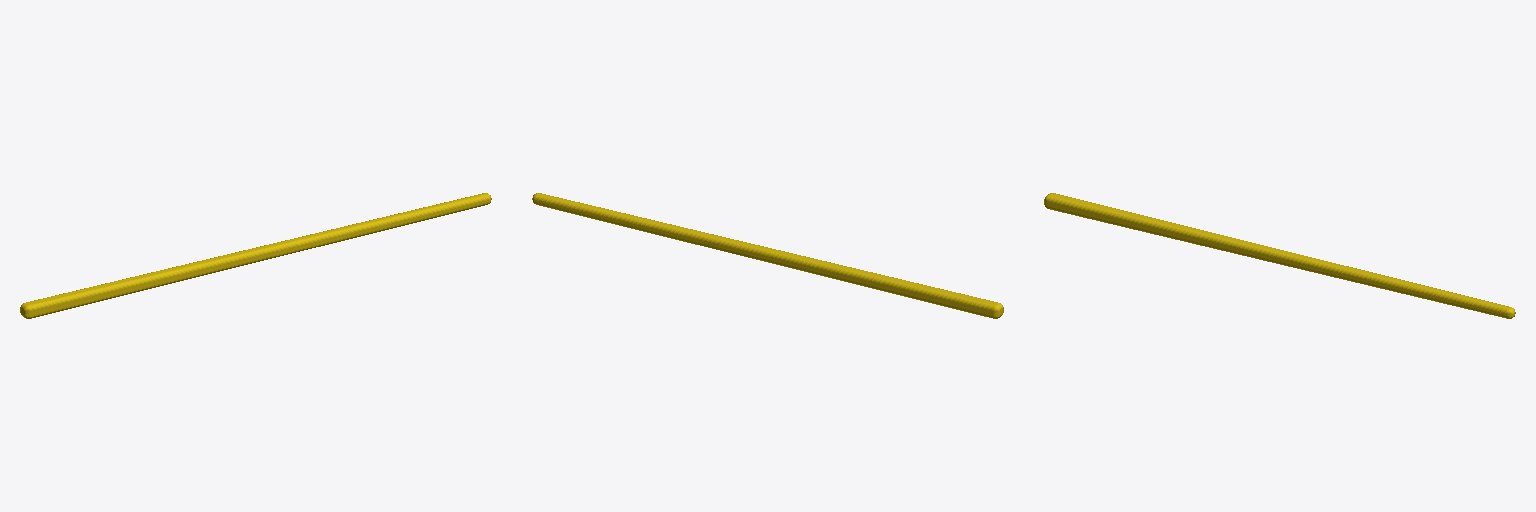
URDF robot description (cb_chopstick_d085):
<?xml version="1.0"?>
<!-- ContactBench chopstick. Generated by FoundationTouch tools/contactbench/make_contactbench_assets.py -->
<robot name="cb_chopstick_d085">
  <material name="c"><color rgba="0.85 0.75 0.10 1.0"/></material>
  <link name="object">
    <visual><origin xyz="0 0 0" rpy="0 0 0"/><geometry><mesh filename="chopstick.obj" scale="1 1 1"/></geometry><material name="c"/></visual>
    <collision><origin xyz="0 0 0" rpy="0 0 0"/><geometry><mesh filename="coll_00.obj" scale="1 1 1"/></geometry></collision>
    <inertial><mass value="3.310495e-03"/><origin xyz="0 0 0" rpy="0 0 0"/><inertia ixx="1.166834e-08" ixy="2.954584e-13" ixz="3.335616e-14" iyy="1.068325e-05" iyz="1.852173e-16" izz="1.068325e-05"/></inertial>
  </link>
</robot>

--- Facts derived from the render (not from the file) ---
Views: 3 orthographic renders of the robot side by side, from view 1: azimuth 30°, elevation 25°; view 2: azimuth 150°, elevation 25°; view 3: azimuth 330°, elevation 25°.
Robot: cb_chopstick_d085 — 1 links, 0 joints (none); root link object; default pose: all joints at 0.
Links seen in each view (by area): view 1: object; view 2: object; view 3: object.
Link boxes in pixels (bbox=[...]): object: bbox=[20, 193, 491, 318]; object: bbox=[532, 193, 1003, 318]; object: bbox=[1044, 193, 1515, 318].
Size in the robot's own frame: 0.2 by 0.0055 by 0.0055 metres.
Meshes: 1 distinct files referenced, 1 mesh visuals loaded (1 OBJ).
